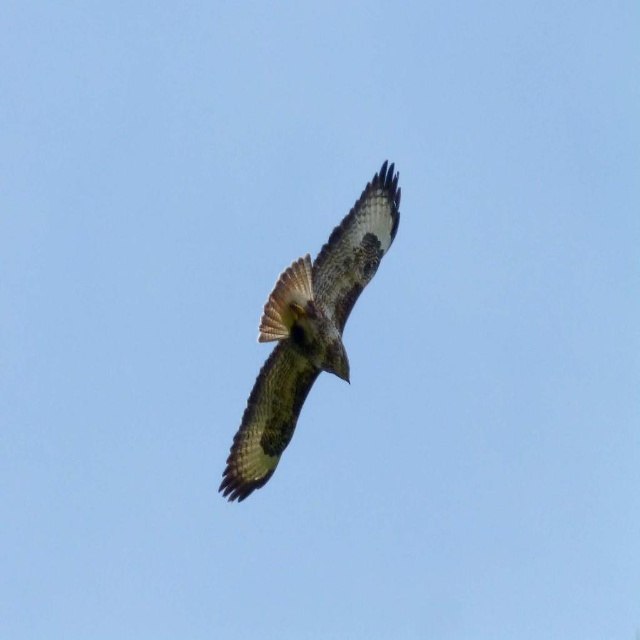Eagle: (218, 160, 402, 503)
